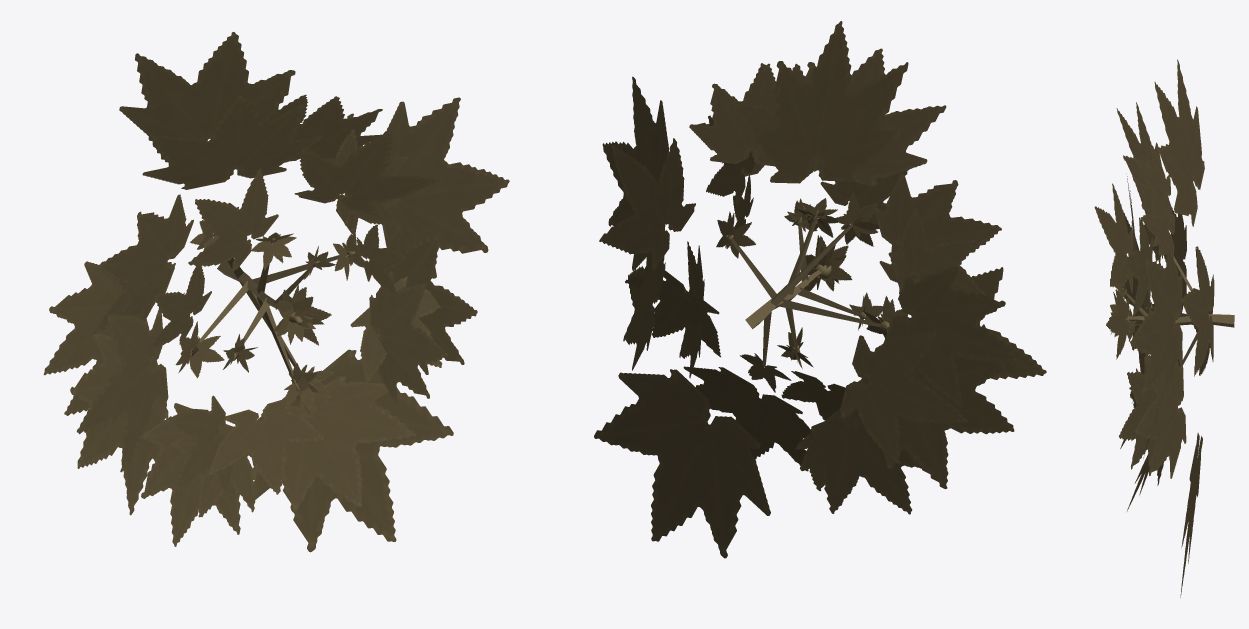
File: p_kush_preflower_c4_cards.obj
The picture shows the model from 3 angles, left to right: view 1: azimuth 30°, elevation 25°; view 2: azimuth 150°, elevation 25°; view 3: azimuth 270°, elevation 25°; orthographic projection. The views are drawn at different scales.
Bounding box in the file's own units: 1.17 × 1.49 × 0.368.
1 material, 1 textured.
